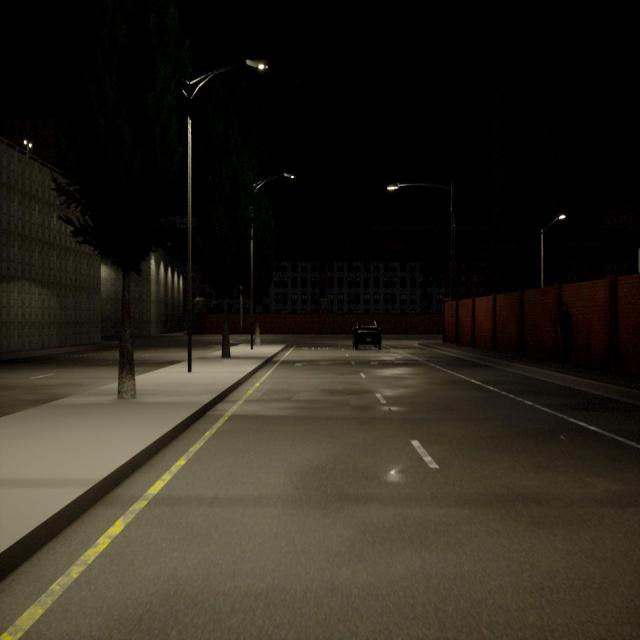Pedestrian: (558, 303, 571, 361)
Vehicle: (353, 321, 381, 349)
